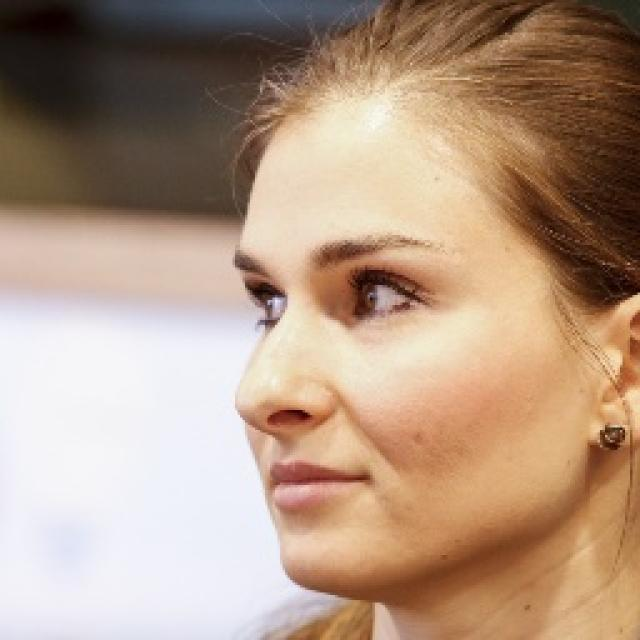earlobe: (589, 286, 640, 456)
